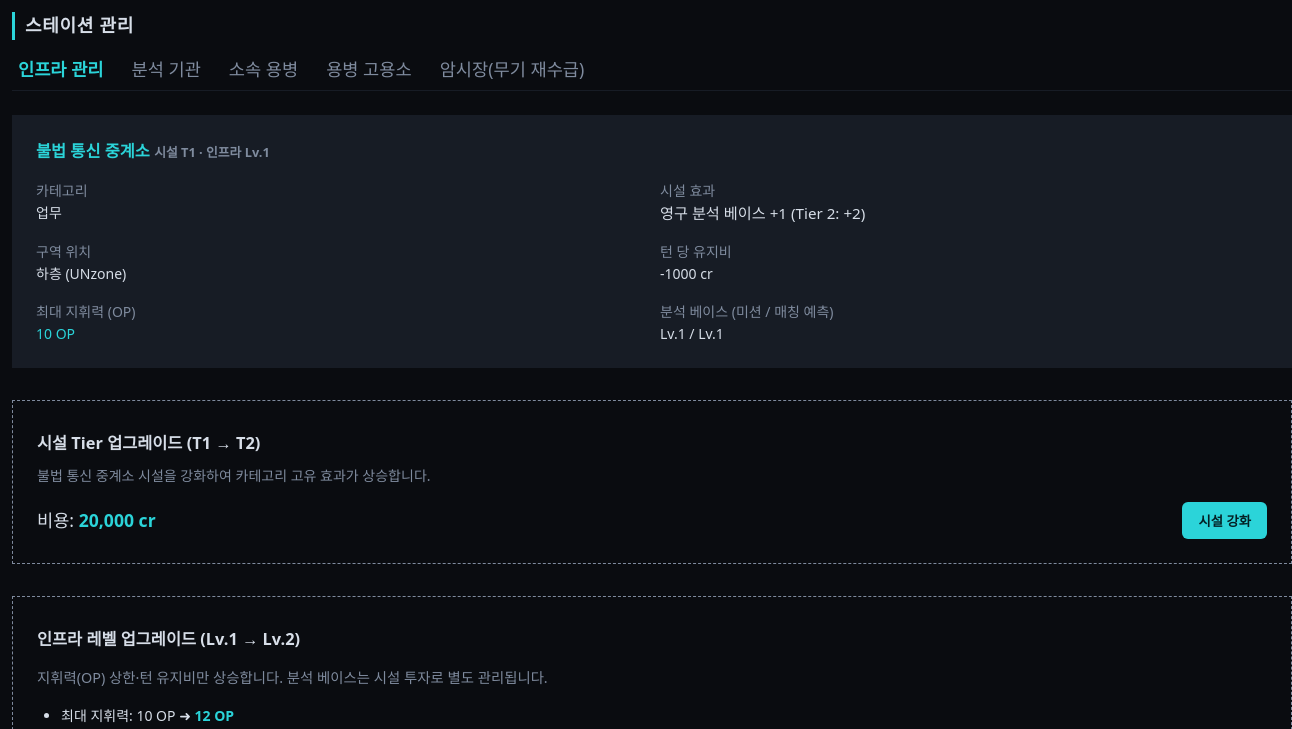
Test: StationView 컴포넌트 단위 테스트 › case 5: roster 탭에서 소속 용병이 없으면 안내 문구가 노출된다
The width and height of the screenshot is (1292, 729).
Click the button with test id "station-tab-roster": (263, 68) x1=223 y1=55 x2=304 y2=82
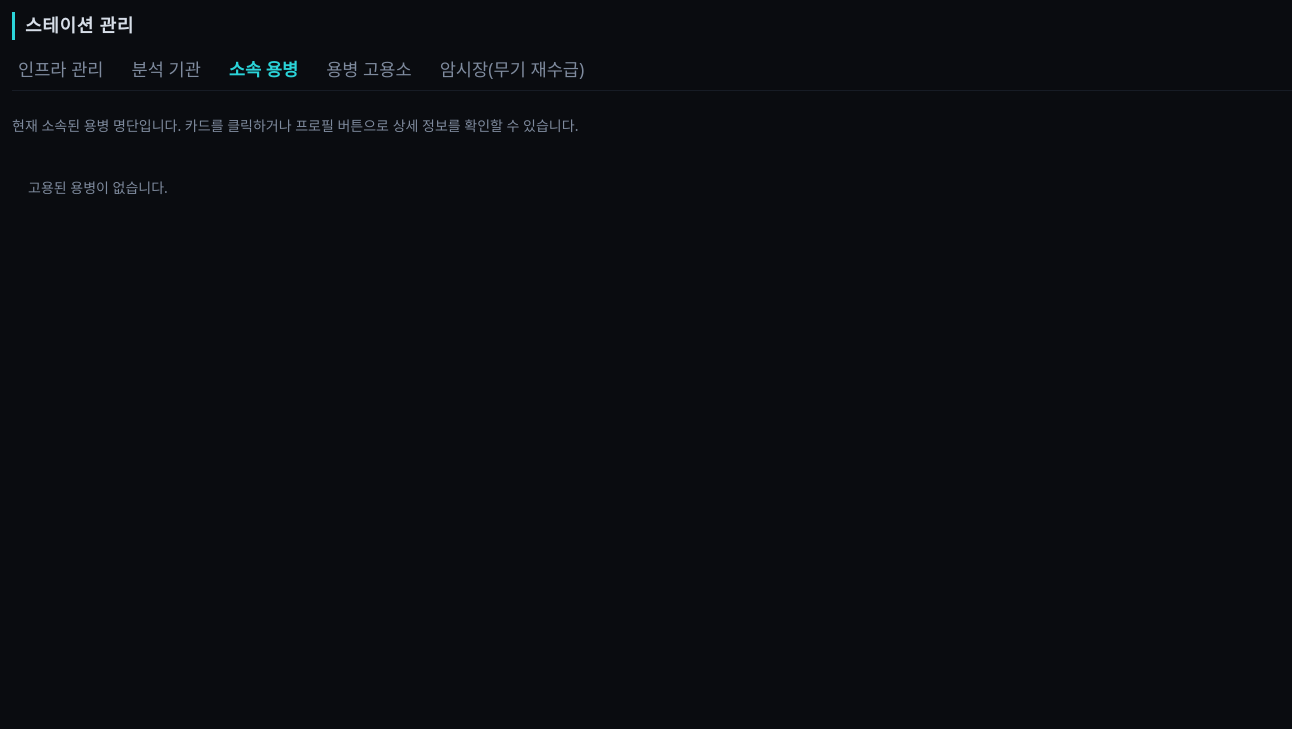
Check: the text "고용된 용병이 없습니다." is shown, box x1=28 y1=178 x2=168 y2=196
